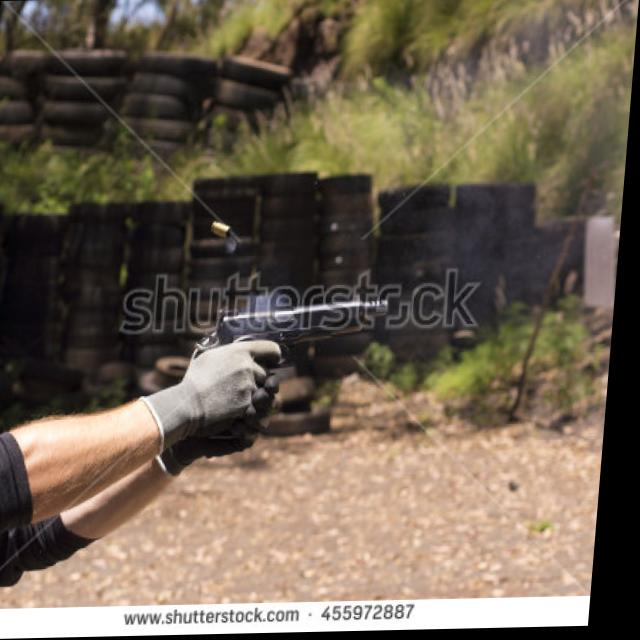handgun: (205, 295, 392, 440)
